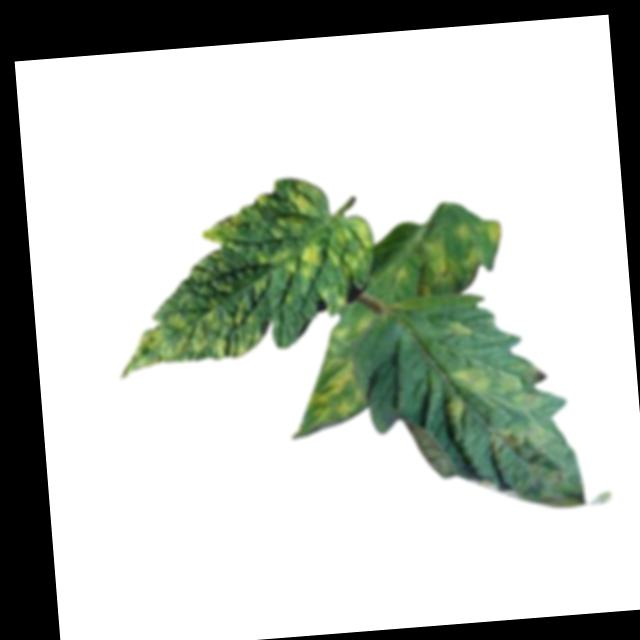Leaf_Mold: (106, 177, 383, 378), (443, 358, 559, 464), (286, 325, 371, 442), (411, 213, 505, 296), (444, 314, 475, 342)
